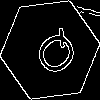Q: (25, 25, 83, 86)
